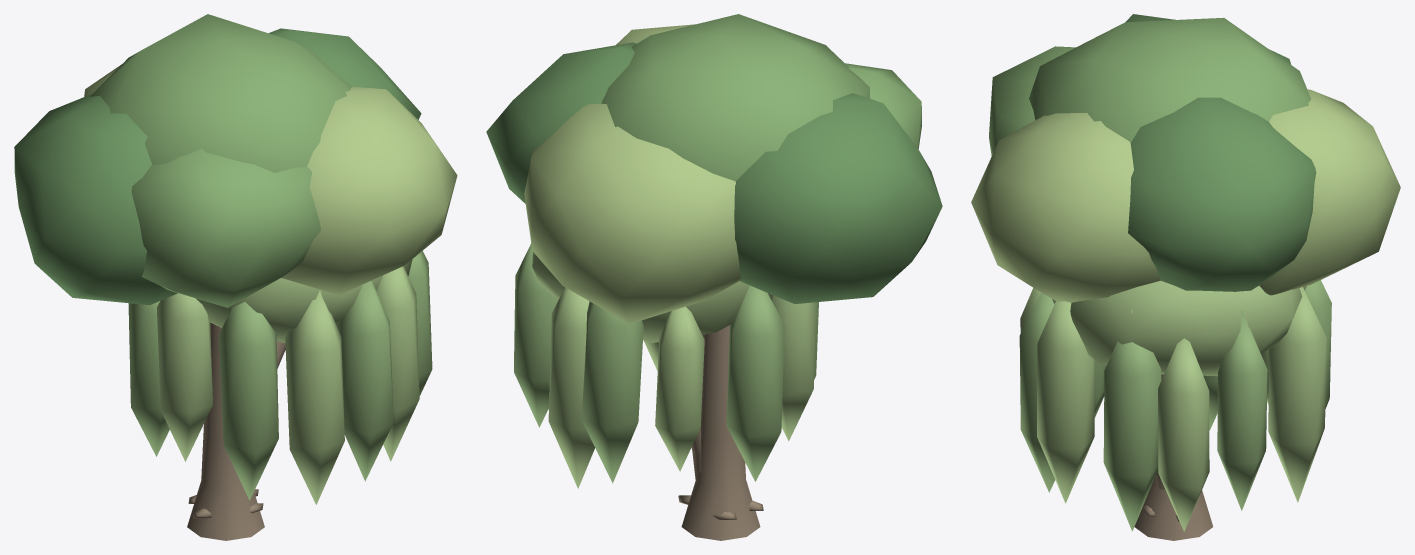
Rendered from farm_trees.glb.
3 renders of one model, left to right at view 1: azimuth 30°, elevation 25°; view 2: azimuth 150°, elevation 25°; view 3: azimuth 270°, elevation 25°, orthographic.
Visible parts, largest first — view 1: oak_c0, oak_c4, oak_c2, oak_c3, wil_c8, wil_c7, wil_c9, wil_c6, oak_trunk, wil_c10, wil_c5, wil_c0 (+2 smaller); view 2: oak_c1, oak_c2, oak_c0, oak_c5, wil_c5, oak_trunk, wil_c3, wil_c4, wil_c2, wil_c1, wil_c6, wil_c0 (+1 smaller); view 3: oak_c5, oak_c4, oak_c0, oak_c1, wil_c0, wil_c10, wil_c2, wil_c11, wil_c12, wil_c1, oak_c3, wil_c9 (+2 smaller).
Part boxes in pixels (x1,y1,x2,y2): oak_c0: [90, 14, 351, 172]; oak_c4: [281, 86, 457, 294]; oak_c2: [14, 94, 177, 305]; oak_c3: [131, 148, 320, 307]; wil_c8: [285, 290, 344, 504]; wil_c7: [218, 302, 278, 500]; wil_c9: [336, 281, 393, 481]; wil_c6: [156, 293, 212, 461]; oak_trunk: [187, 322, 264, 540]; wil_c10: [376, 266, 419, 461]; wil_c5: [128, 301, 169, 456]; wil_c0: [196, 259, 412, 342]; oak_c1: [524, 103, 740, 323]; oak_c2: [734, 93, 942, 303]; oak_c0: [601, 14, 870, 181]; oak_c5: [486, 42, 636, 203]; wil_c5: [726, 285, 784, 481]; oak_trunk: [681, 325, 760, 540]; wil_c3: [581, 301, 643, 483]; wil_c4: [655, 306, 704, 471]; wil_c2: [548, 287, 594, 488]; wil_c1: [514, 243, 558, 427]; wil_c6: [772, 295, 815, 441]; wil_c0: [532, 252, 772, 343]; oak_c5: [1128, 97, 1316, 291]; oak_c4: [971, 112, 1160, 302]; oak_c0: [1029, 17, 1311, 143]; oak_c1: [1259, 89, 1400, 295]; wil_c0: [1052, 280, 1306, 376]; wil_c10: [1037, 301, 1094, 503]; wil_c2: [1268, 287, 1326, 502]; wil_c11: [1103, 308, 1161, 531]; wil_c12: [1158, 338, 1209, 531]; wil_c1: [1217, 310, 1267, 510]; oak_c3: [989, 46, 1075, 155]; wil_c9: [1019, 292, 1055, 492].
Size of the model in its own units: 6.67 by 7.8 by 6.22.
